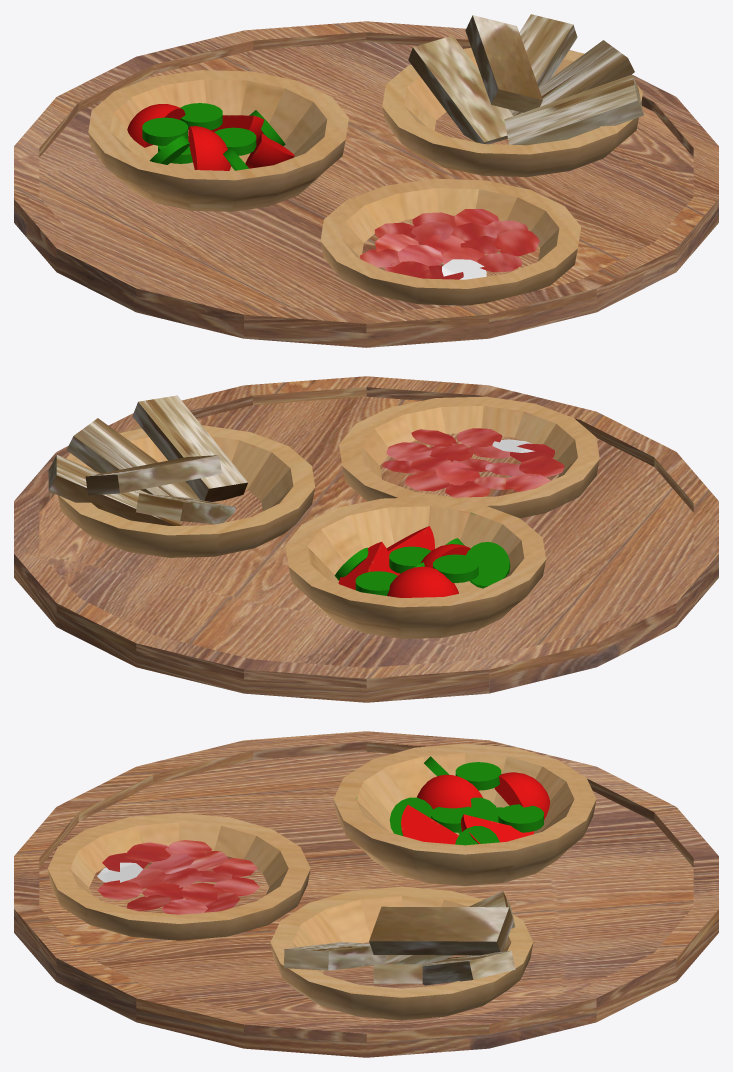
Rendered from vassoio.gltf.
3 views of the same model, one above another, from view 1: azimuth 30°, elevation 25°; view 2: azimuth 150°, elevation 25°; view 3: azimuth 270°, elevation 25° (orthographic).
Visible parts, largest first — view 1: Cylinder446_Material #184_0; view 2: Cylinder446_Material #184_0; view 3: Cylinder446_Material #184_0.
Part boxes in pixels (<box>): Cylinder446_Material #184_0: <box>14,14,718,347</box>; Cylinder446_Material #184_0: <box>14,376,718,702</box>; Cylinder446_Material #184_0: <box>14,731,718,1057</box>.
Bounding box in the file's own units: 10 × 1.85 × 9.85.
